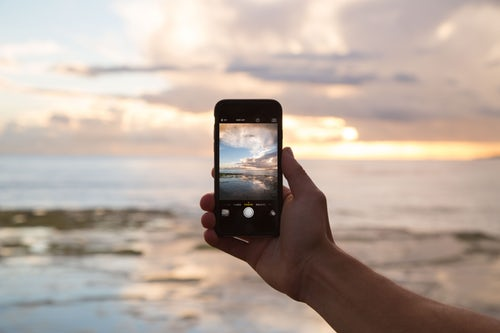phone: (213, 98, 285, 239)
